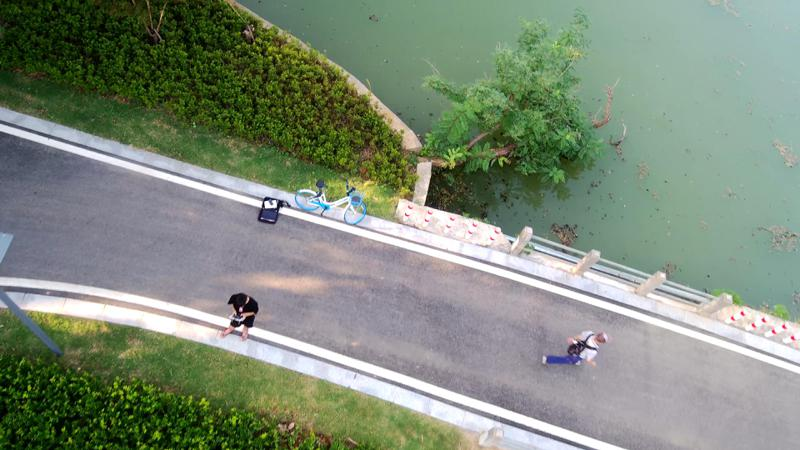passerby: (538, 327, 610, 366), (218, 290, 259, 341)
